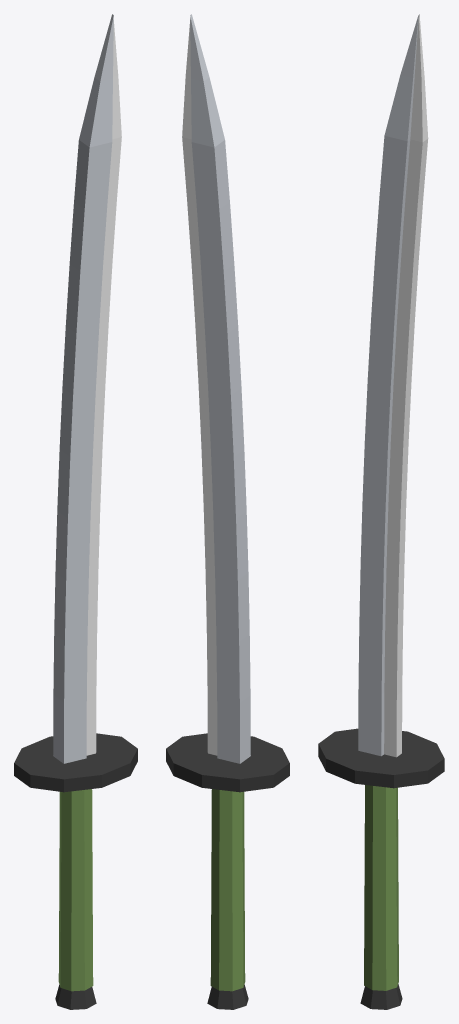
Rendered from Sword_BambooKatana.fbx.
3 views of the same model, side by side, from view 1: azimuth 30°, elevation 25°; view 2: azimuth 150°, elevation 25°; view 3: azimuth 330°, elevation 25° (orthographic).
Parts seen in each view (by area): view 1: Sword_BambooKatana; view 2: Sword_BambooKatana; view 3: Sword_BambooKatana.
Boxes of the visible parts, x1=… form: Sword_BambooKatana: x1=14, y1=14, x2=137, y2=1009; Sword_BambooKatana: x1=166, y1=14, x2=289, y2=1009; Sword_BambooKatana: x1=318, y1=14, x2=444, y2=1009.
Size of the model in its own units: 0.5231 by 4.54 by 0.44.
1 material, 1 textured.
